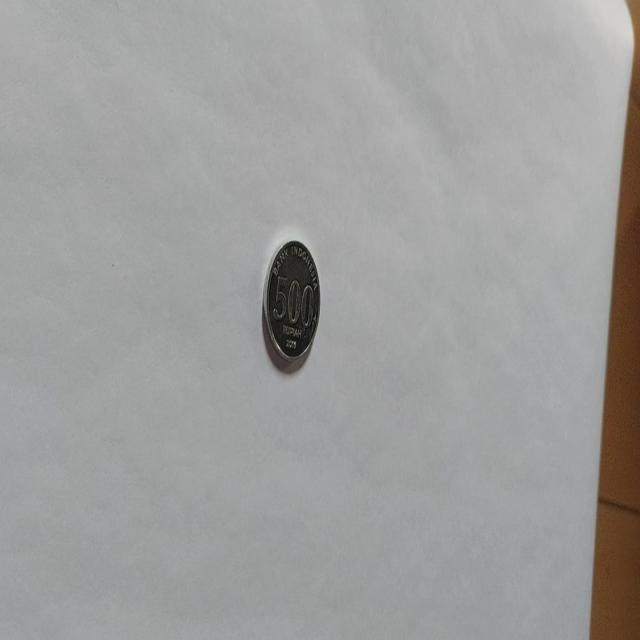lima ratus rupiah: (260, 238, 322, 372)
